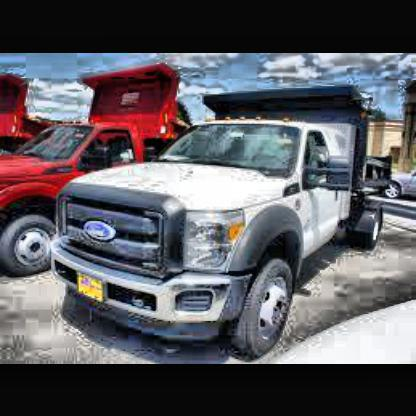Ford F-450 Super Duty Crew Cab 2012: (50, 88, 384, 362)
